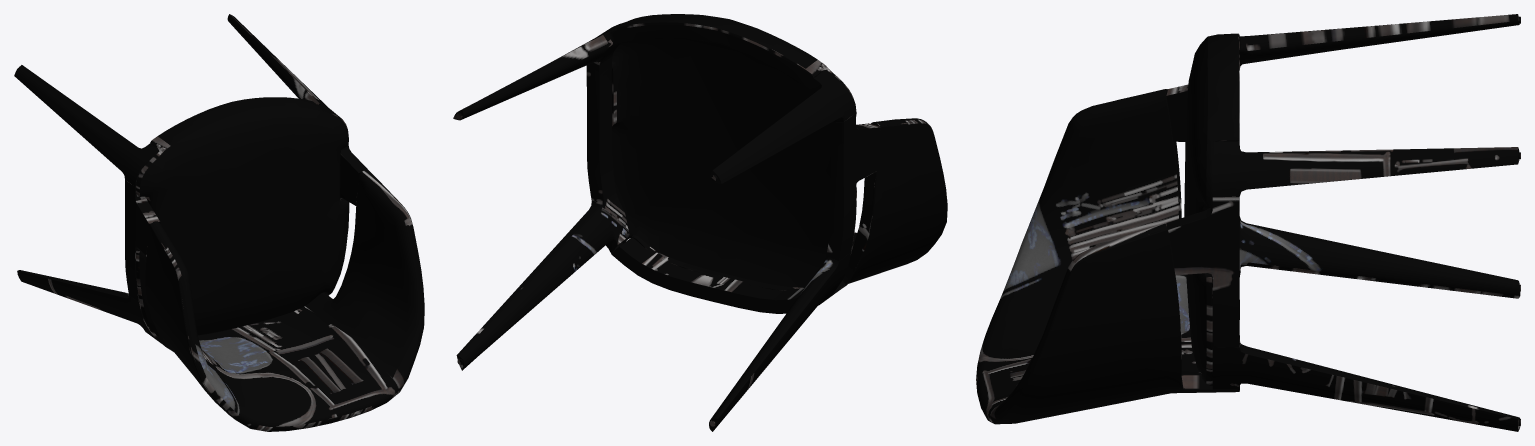
3 renders of one model, left to right at view 1: azimuth 30°, elevation 25°; view 2: azimuth 150°, elevation 25°; view 3: azimuth 270°, elevation 25°, orthographic. The views are drawn at different scales.
Size of the model in its own units: 0.5312 by 0.5366 by 0.808.
